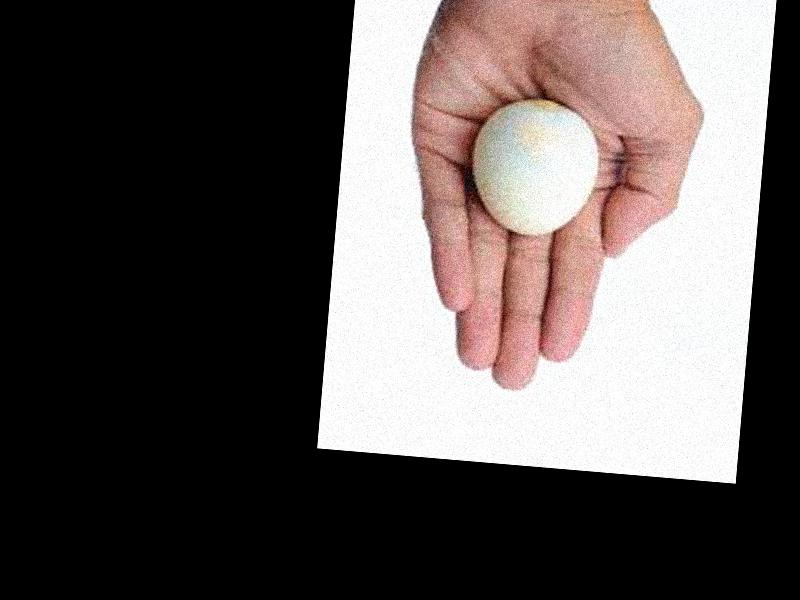Eggs: (469, 95, 600, 242)
